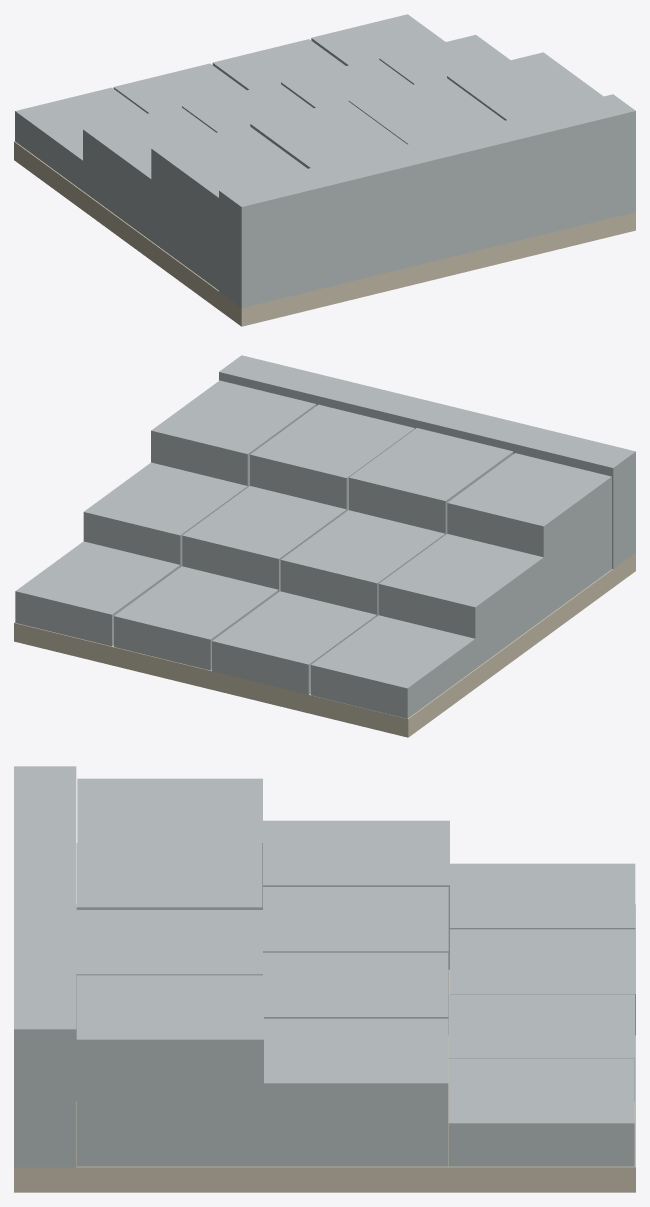
Rendered from sunken-city-and-underwater-ruins-stone-step-module-66c6df94__36950.glb.
3 views of the same model, one above another, from view 1: azimuth 30°, elevation 25°; view 2: azimuth 150°, elevation 25°; view 3: azimuth 270°, elevation 25° (orthographic). The views are drawn at different scales.
Parts seen in each view (by area): view 1: stone-step-module; view 2: stone-step-module; view 3: stone-step-module.
Part boxes in pixels (bbox=[...]): stone-step-module: bbox=[14, 14, 635, 326]; stone-step-module: bbox=[14, 355, 635, 737]; stone-step-module: bbox=[14, 766, 635, 1192].
Size of the model in its own units: 4 by 1.16 by 4.
